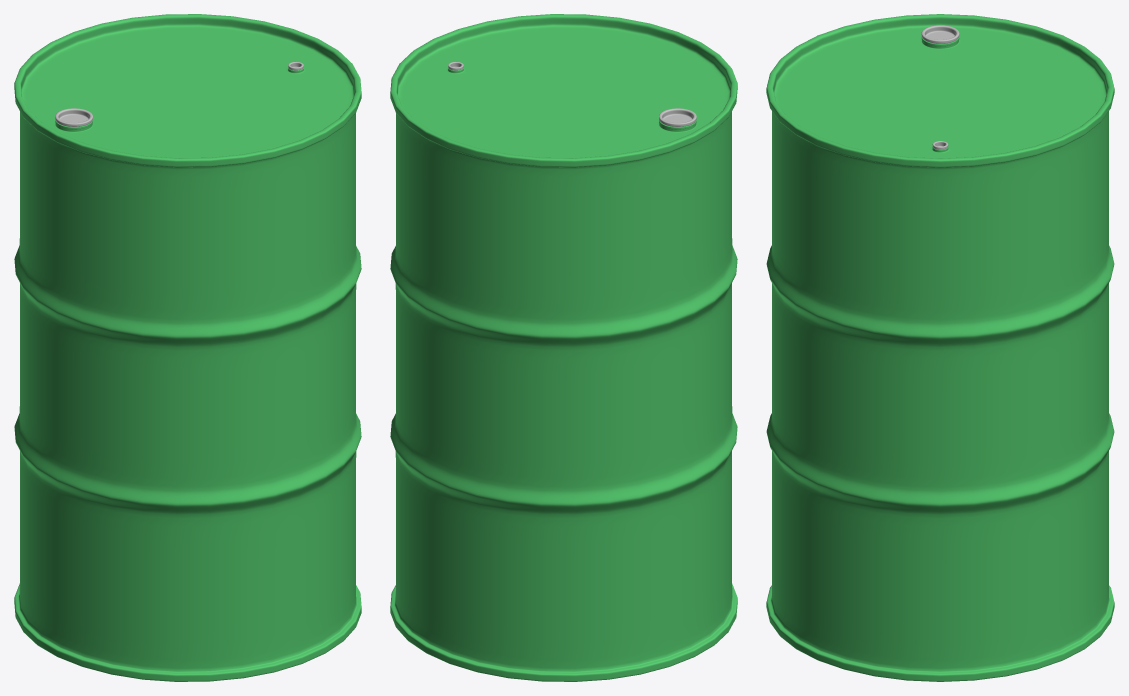
File: Drum.fbx
The picture shows the model from 3 angles, left to right: view 1: azimuth 30°, elevation 25°; view 2: azimuth 150°, elevation 25°; view 3: azimuth 270°, elevation 25°; orthographic projection.
Parts seen in each view (by area): view 1: drum; view 2: drum; view 3: drum.
Part boxes in pixels (x1,y1,x2,y2): drum: (14, 14, 361, 681); drum: (390, 14, 737, 681); drum: (766, 14, 1114, 681).
Bounding box in the file's own units: 54.05 × 89.47 × 54.05.
